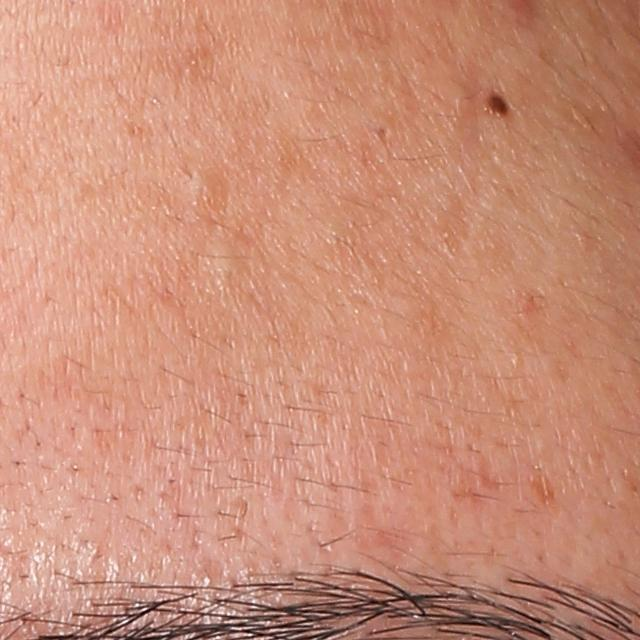comedo: (206, 244, 250, 279)
nevus: (486, 92, 509, 118)
